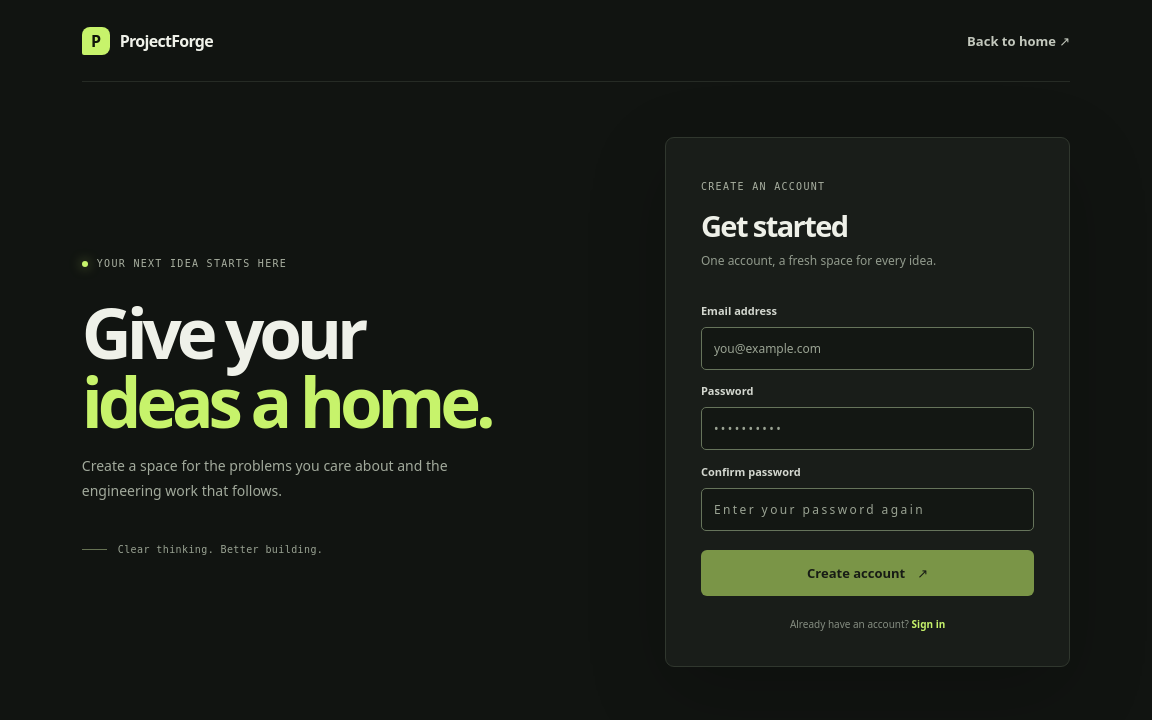
it: AuthPage › validates password confirmation before submitting registration
Type "person@example.com" into the field labelled "Email address" at (868, 349), box x1=701 y1=327 x2=1034 y2=370
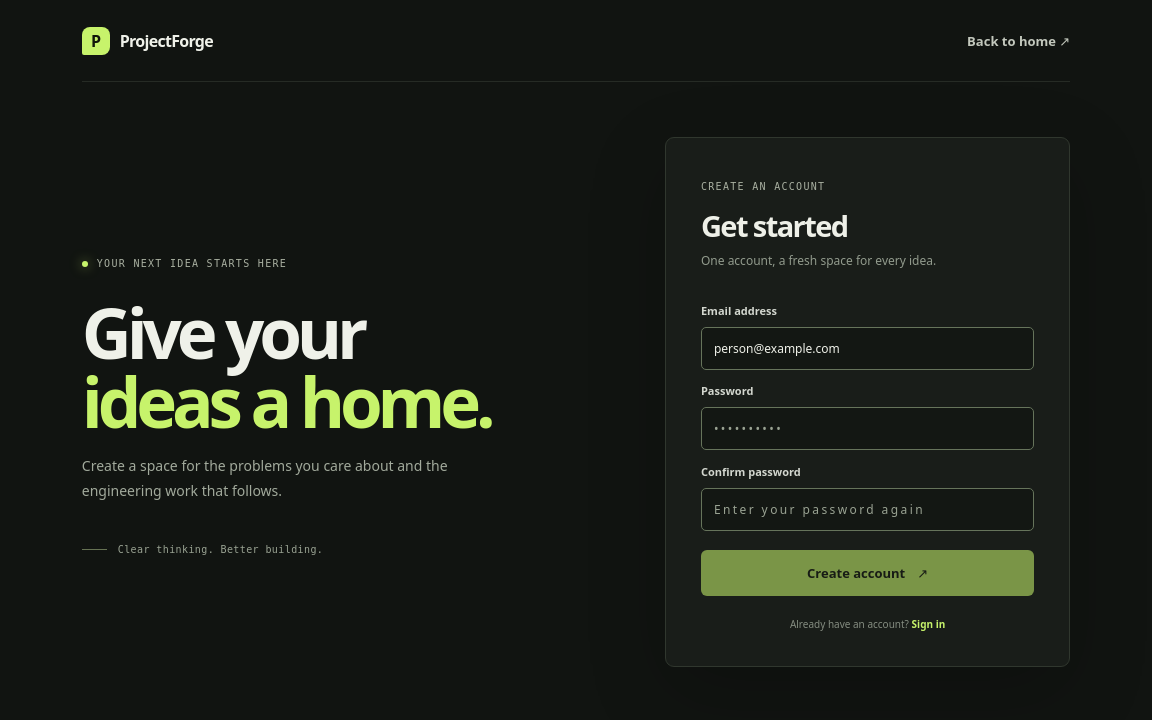
Type "a-long-password" into the password field labelled "Password" at (868, 429), box x1=701 y1=407 x2=1034 y2=450
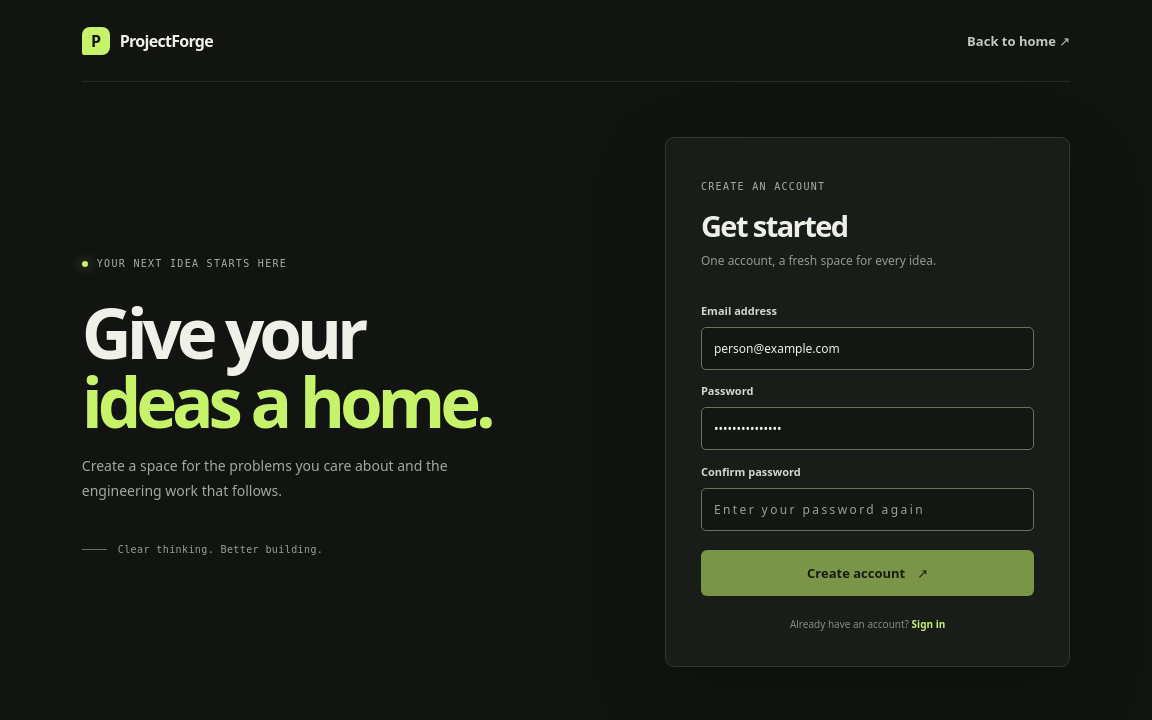
Type "different-password" into the password field labelled "Confirm password" at (868, 510), box x1=701 y1=488 x2=1034 y2=531
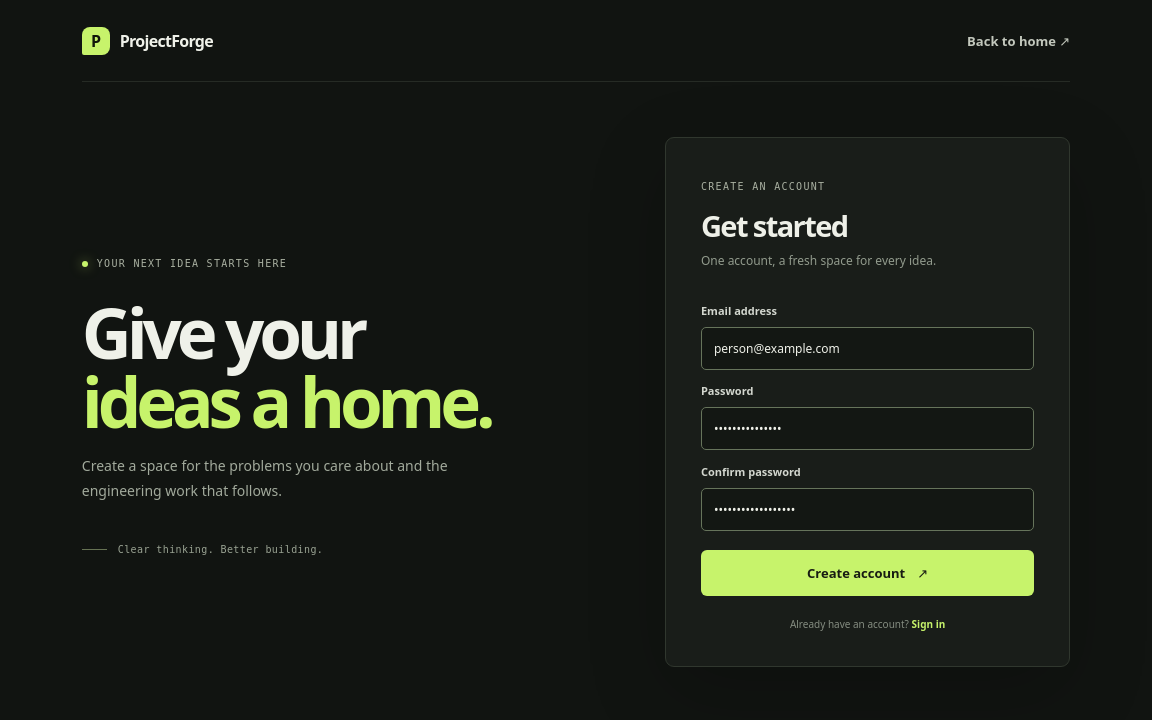
Now the button "Create account ↗" is enabled
Click the button "Create account ↗" at (868, 573), box x1=701 y1=550 x2=1034 y2=596
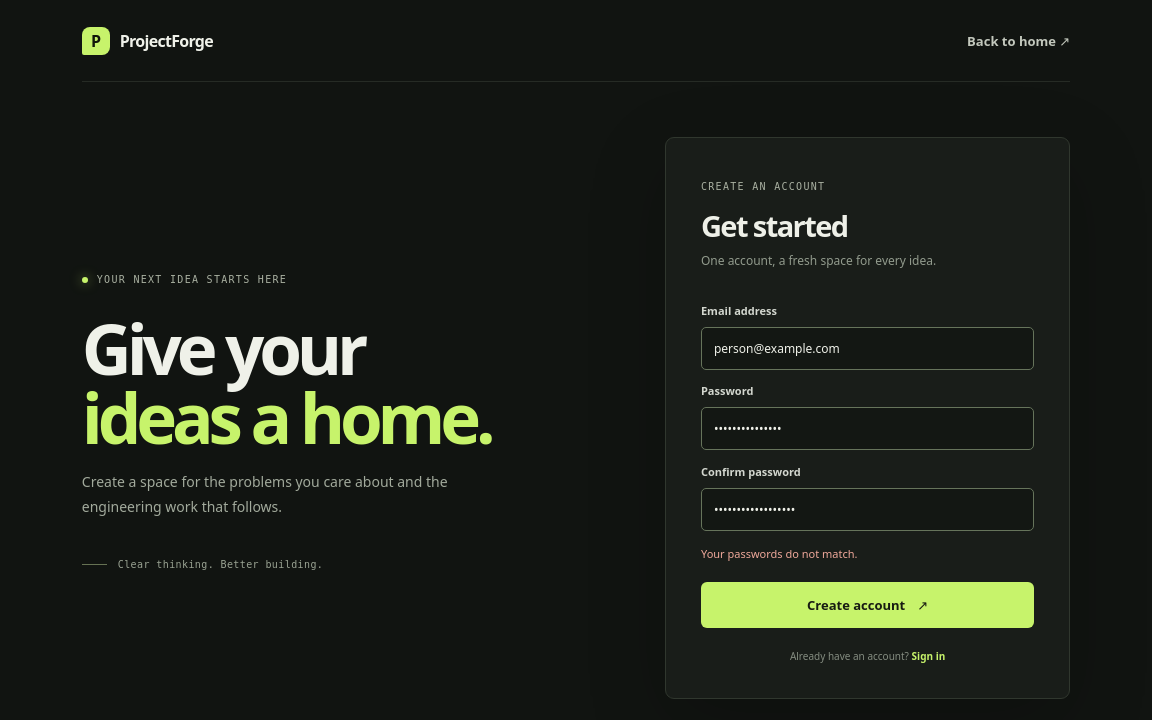
Now the message reads "Your passwords do not match.", box x1=701 y1=546 x2=858 y2=561
